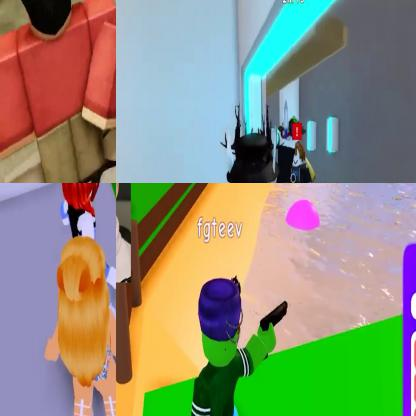Roblox-Avatar: (1, 1, 116, 183), (177, 275, 290, 416), (45, 236, 116, 416), (205, 101, 297, 183), (83, 1, 116, 183)
